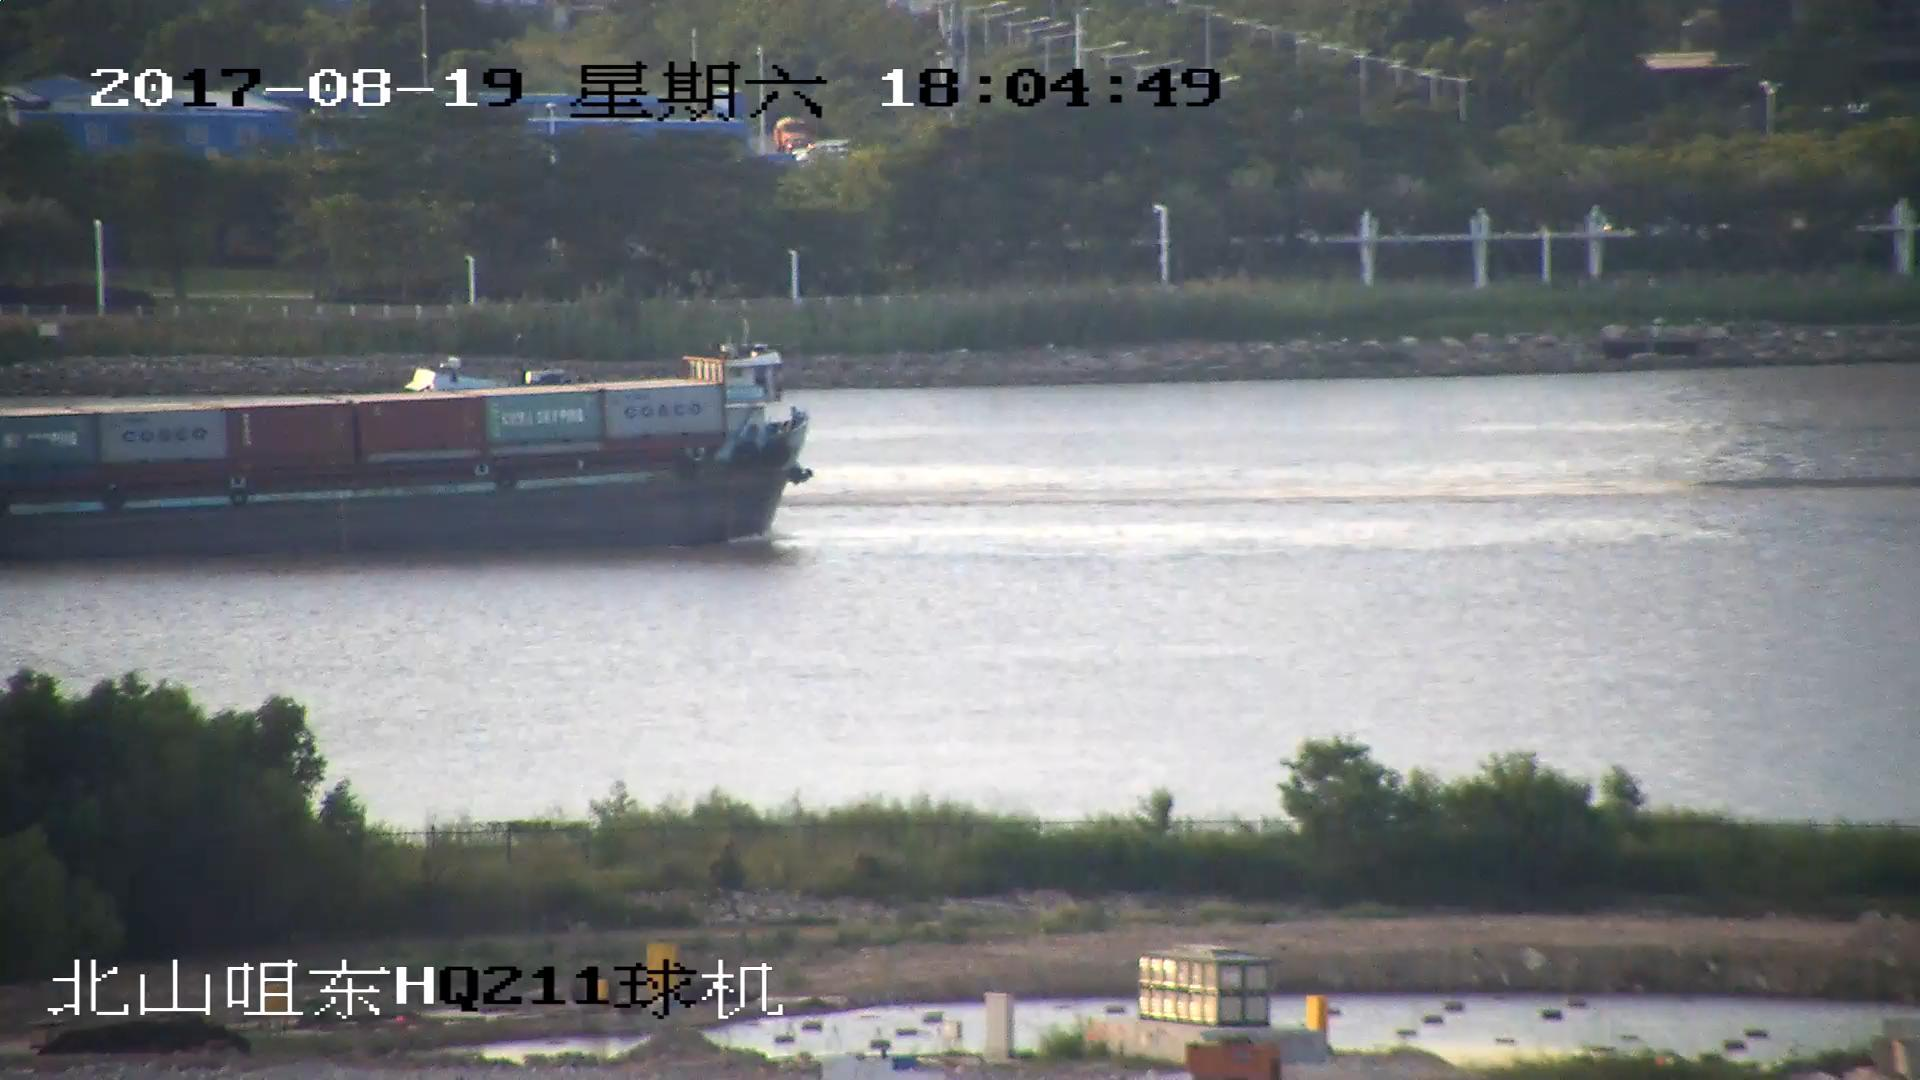Ship: (3, 334, 808, 556)
